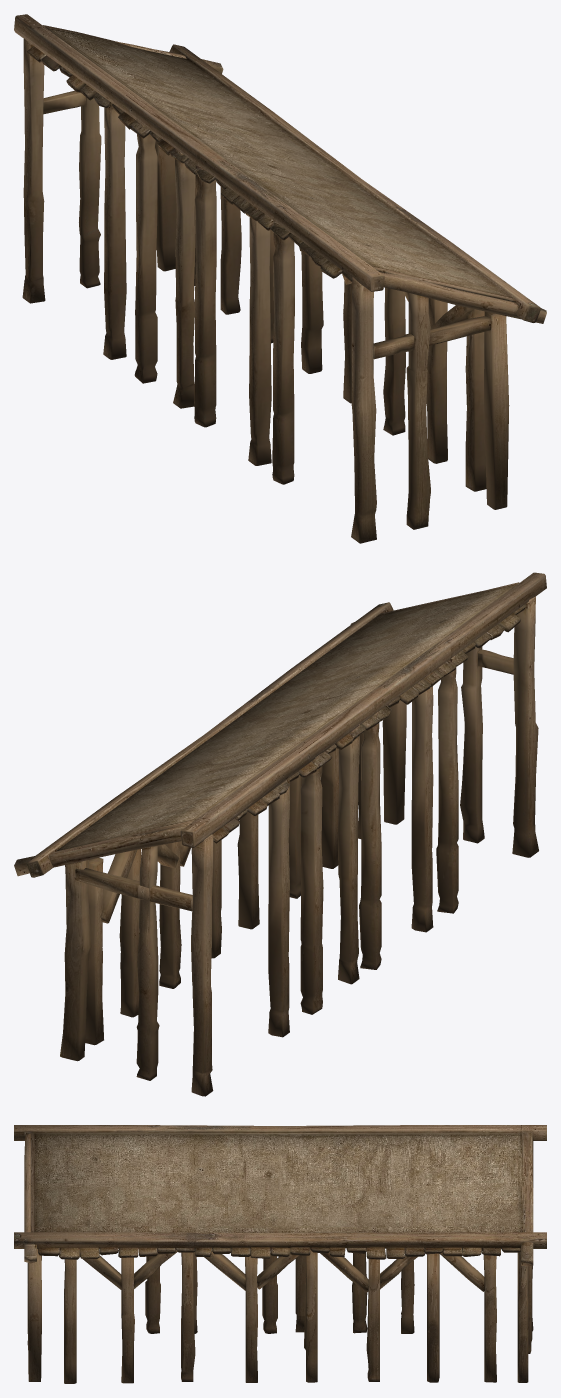
File: hut1.glb
3 renders of one model, top to bottom at view 1: azimuth 30°, elevation 25°; view 2: azimuth 150°, elevation 25°; view 3: azimuth 270°, elevation 25°, orthographic. The views are drawn at different scales.
Parts seen in each view (by area): view 1: tripo_node_b1c8c260; view 2: tripo_node_b1c8c260; view 3: tripo_node_b1c8c260.
Boxes of the visible parts, x1,y1,x2,y2 form: tripo_node_b1c8c260: (14,14,546,543); tripo_node_b1c8c260: (14,572,546,1096); tripo_node_b1c8c260: (14,1125,546,1383).
Size of the model in its own units: 5.49 by 7.22 by 16.99.
1 material, 1 textured.
